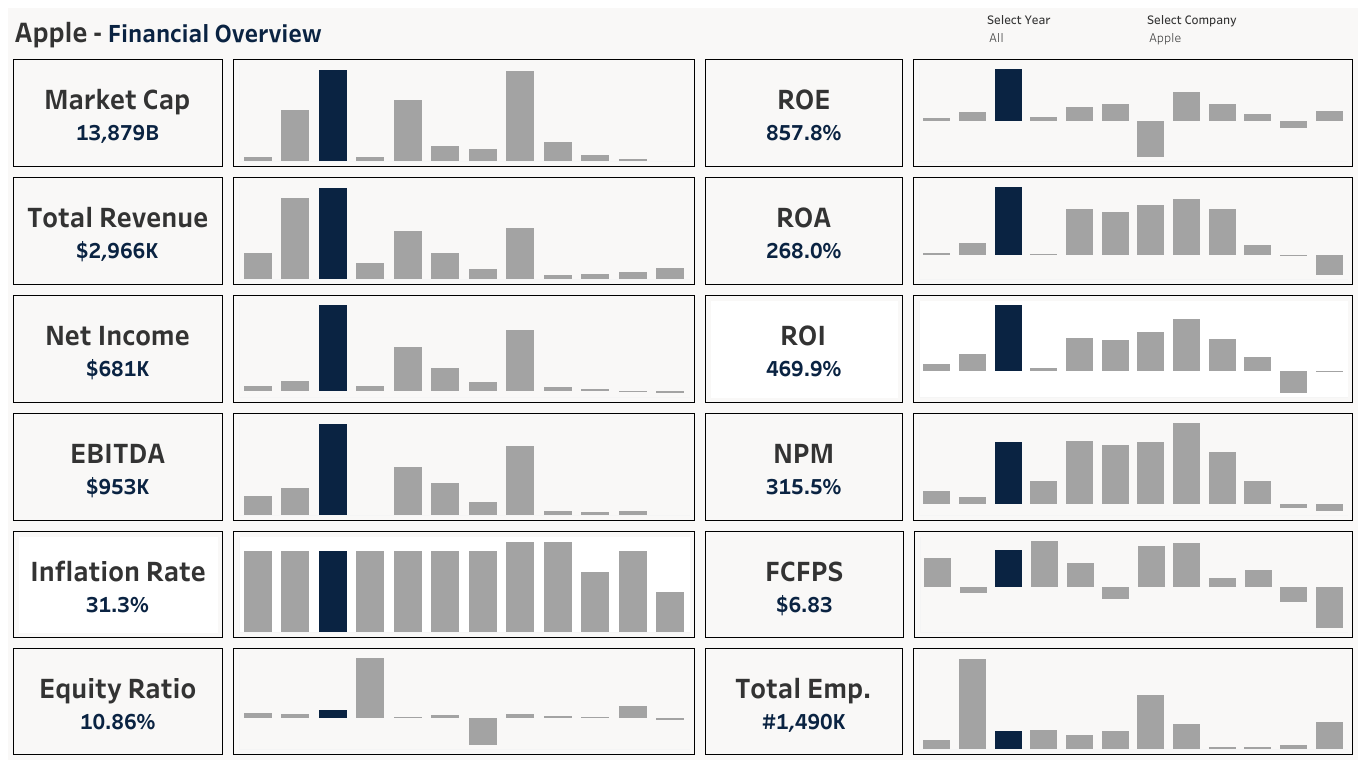

Layout of this report page (visuals, bound fields, positions):
{"tool":"tableau","page":{"name":"Dashboard 1","canvas":[1366,768],"ordinal":0},"visuals":[{"type":"title","box":[8,8,1350,45]},{"type":"filter","title":"Market Cap Bar Chart","param":"[federated.1evdi9c0i3p27i12krfxj1iuprd7].[yr:Year:ok]","box":[987,9,160,44]},{"type":"parameter","param":"[Parameters].[Parameter 1]","box":[1147,9,160,44]},{"type":"worksheet","title":"Market Cap KPI Card","mark":"Automatic","box":[8,53,220.2,118]},{"type":"worksheet","title":"Market Cap Bar Chart","mark":"Automatic","rows":["Market Cap(in B USD)"],"cols":["Company "],"box":[228.2,53,471.8,118]},{"type":"worksheet","title":"ROE KPI Card","mark":"Automatic","box":[700,53,208.2,118]},{"type":"worksheet","title":"ROE Bar Chart","mark":"Automatic","rows":["ROE"],"cols":["Company "],"box":[908.2,53,449.8,118]},{"type":"worksheet","title":"Revenue KPI Card","mark":"Automatic","box":[8,171,220.2,118]},{"type":"worksheet","title":"Revenue Bar Chart","mark":"Automatic","rows":["Revenue"],"cols":["Company "],"box":[228.2,171,471.8,118]},{"type":"worksheet","title":"ROA KPI Card","mark":"Automatic","box":[700,171,208.4,118]},{"type":"worksheet","title":"ROA Bar Chart","mark":"Automatic","rows":["ROA"],"cols":["Company "],"box":[908.4,171,449.6,118]},{"type":"worksheet","title":"Net Income KPI Card","mark":"Automatic","box":[8,289,220.2,118]},{"type":"worksheet","title":"Net Income Bar Chart","mark":"Automatic","rows":["Net Income"],"cols":["Company "],"box":[228.2,289,471.8,118]},{"type":"worksheet","title":"ROI KPI Card","mark":"Automatic","box":[700,289,208.2,118]},{"type":"worksheet","title":"ROI Bar Chart","mark":"Automatic","rows":["ROI"],"cols":["Company "],"box":[908.2,289,449.8,118]},{"type":"worksheet","title":"EBITDA KPI Card","mark":"Automatic","box":[8,407,220.2,118]},{"type":"worksheet","title":"EBITDA Bar Chart","mark":"Automatic","rows":["EBITDA"],"cols":["Company "],"box":[228.2,407,471.8,118]},{"type":"worksheet","title":"Net Profit Margin KPI Card","mark":"Automatic","box":[700,407,208.2,118]},{"type":"worksheet","title":"Net Profit Margin Bar Chart","mark":"Automatic","rows":["Net Profit Margin"],"cols":["Company "],"box":[908.2,407,449.8,118]},{"type":"worksheet","title":"Inflation Rate KPI Card","mark":"Text","box":[8,525,220.2,118]},{"type":"worksheet","title":"Inflation Rate Bar Chart","mark":"Automatic","rows":["Inflation Rate(in US)"],"cols":["Company "],"box":[228.2,525,471.8,118]},{"type":"worksheet","title":"Free Cash Flow KPI Card","mark":"Automatic","box":[700,525,208.6,118]},{"type":"worksheet","title":"Free Cash Flow Per Share","mark":"Automatic","rows":["Free Cash Flow per Share"],"cols":["Company "],"box":[908.6,525,449.4,118]},{"type":"worksheet","title":"Debt/Equity Ratio KPI Card","mark":"Automatic","box":[8,643,220.2,117]},{"type":"worksheet","title":"Debt/Equity Ratio Bar Chart","mark":"Automatic","rows":["Debt/Equity Ratio"],"cols":["Company "],"box":[228.2,643,471.8,117]},{"type":"worksheet","title":"Employee Count KPI Card ","mark":"Text","box":[700,643,208.2,117]},{"type":"worksheet","title":"Total Employee Bar Chart","mark":"Automatic","rows":["Number of Employees"],"cols":["Company "],"box":[908.2,643,449.8,117]}]}

Visuals, with their boxes in screenshot pixels (x1, y1, x2, y2), scaled from the page's 1366x768 canvas onto the 1365x767 screenshot:
title: x1=8, y1=8, x2=1357, y2=53
"Market Cap Bar Chart" filter: x1=986, y1=9, x2=1146, y2=53
parameter: x1=1146, y1=9, x2=1306, y2=53
"Market Cap KPI Card" worksheet: x1=8, y1=53, x2=228, y2=171
"Market Cap Bar Chart" worksheet: x1=228, y1=53, x2=699, y2=171
"ROE KPI Card" worksheet: x1=699, y1=53, x2=908, y2=171
"ROE Bar Chart" worksheet: x1=908, y1=53, x2=1357, y2=171
"Revenue KPI Card" worksheet: x1=8, y1=171, x2=228, y2=289
"Revenue Bar Chart" worksheet: x1=228, y1=171, x2=699, y2=289
"ROA KPI Card" worksheet: x1=699, y1=171, x2=908, y2=289
"ROA Bar Chart" worksheet: x1=908, y1=171, x2=1357, y2=289
"Net Income KPI Card" worksheet: x1=8, y1=289, x2=228, y2=406
"Net Income Bar Chart" worksheet: x1=228, y1=289, x2=699, y2=406
"ROI KPI Card" worksheet: x1=699, y1=289, x2=908, y2=406
"ROI Bar Chart" worksheet: x1=908, y1=289, x2=1357, y2=406
"EBITDA KPI Card" worksheet: x1=8, y1=406, x2=228, y2=524
"EBITDA Bar Chart" worksheet: x1=228, y1=406, x2=699, y2=524
"Net Profit Margin KPI Card" worksheet: x1=699, y1=406, x2=908, y2=524
"Net Profit Margin Bar Chart" worksheet: x1=908, y1=406, x2=1357, y2=524
"Inflation Rate KPI Card" worksheet (Text marks): x1=8, y1=524, x2=228, y2=642
"Inflation Rate Bar Chart" worksheet: x1=228, y1=524, x2=699, y2=642
"Free Cash Flow KPI Card" worksheet: x1=699, y1=524, x2=908, y2=642
"Free Cash Flow Per Share" worksheet: x1=908, y1=524, x2=1357, y2=642
"Debt/Equity Ratio KPI Card" worksheet: x1=8, y1=642, x2=228, y2=759
"Debt/Equity Ratio Bar Chart" worksheet: x1=228, y1=642, x2=699, y2=759
"Employee Count KPI Card " worksheet (Text marks): x1=699, y1=642, x2=908, y2=759
"Total Employee Bar Chart" worksheet: x1=908, y1=642, x2=1357, y2=759
